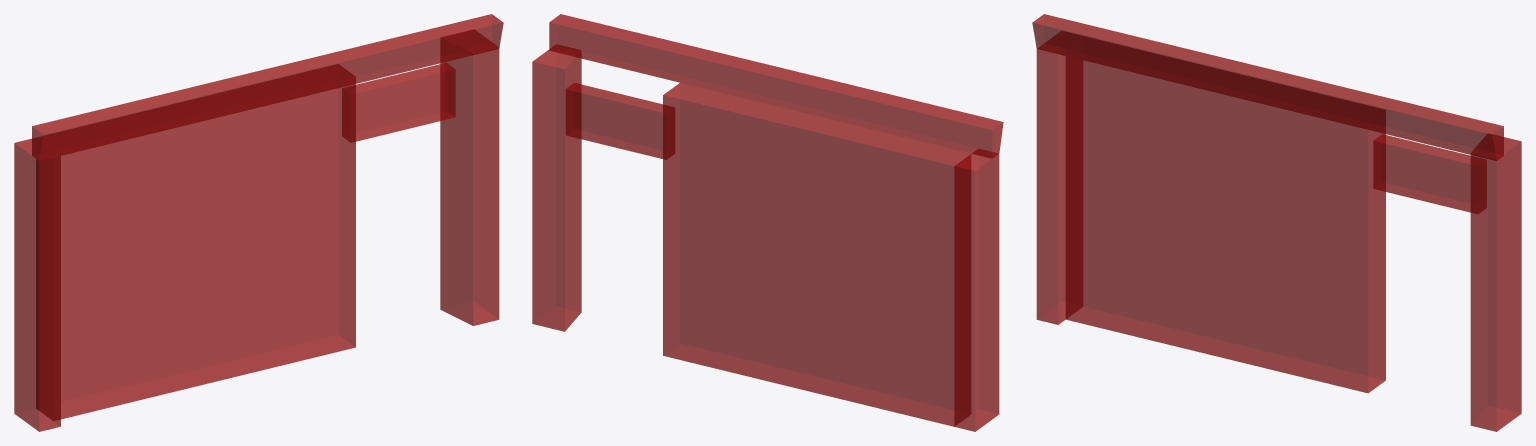
Rendered from SM_Bld_ShopFront_03_Collision.fbx.
3 renders of one model, left to right at view 1: azimuth 30°, elevation 25°; view 2: azimuth 150°, elevation 25°; view 3: azimuth 330°, elevation 25°, orthographic. The views are drawn at different scales.
Visible parts, largest first — view 1: SM_Bld_ShopFront_03_Collision; view 2: SM_Bld_ShopFront_03_Collision; view 3: SM_Bld_ShopFront_03_Collision.
Part boxes in pixels (x1,y1,x2,y2): SM_Bld_ShopFront_03_Collision: (14, 14, 503, 431); SM_Bld_ShopFront_03_Collision: (532, 14, 1003, 431); SM_Bld_ShopFront_03_Collision: (1032, 14, 1521, 431).
Bounding box in the file's own units: 500 × 312 × 55.38.
